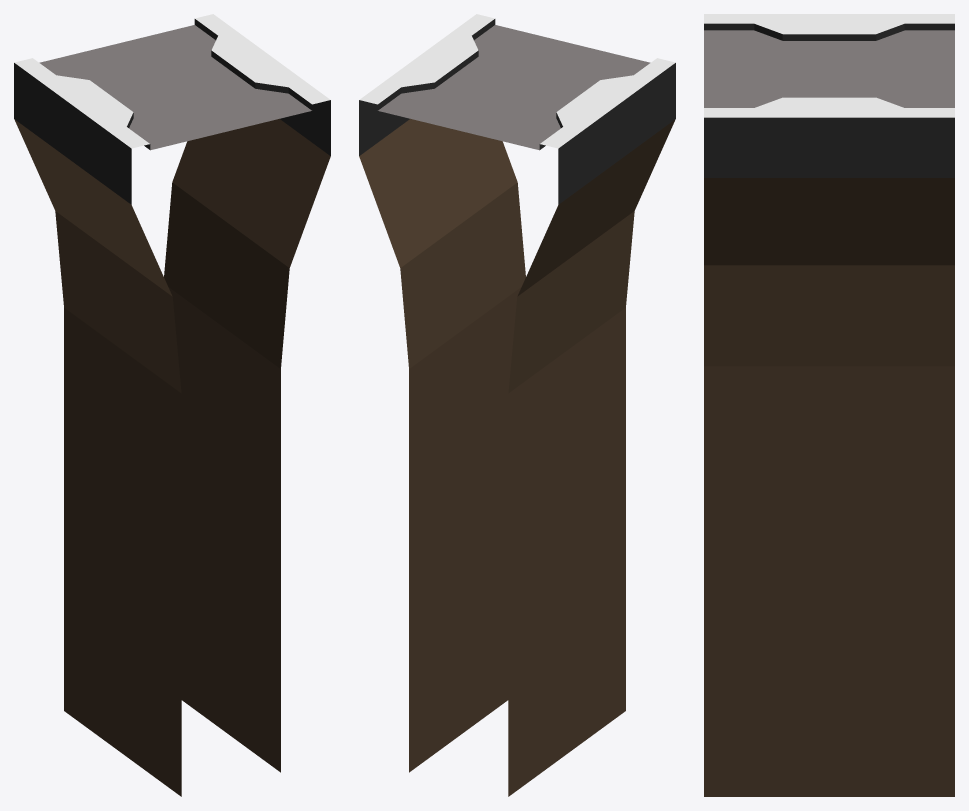
Rendered from road_type_04.fbx.
3 views of the same model, side by side, from view 1: azimuth 30°, elevation 25°; view 2: azimuth 150°, elevation 25°; view 3: azimuth 270°, elevation 25° (orthographic). The views are drawn at different scales.
Visible parts, largest first — view 1: road_type_04; view 2: road_type_04; view 3: road_type_04.
Part boxes in pixels (x1,y1,x2,y2): road_type_04: (14, 14, 330, 796); road_type_04: (359, 14, 675, 796); road_type_04: (704, 14, 954, 796).
Size of the model in its own units: 334 by 1058 by 341.
1 material, 1 textured.
